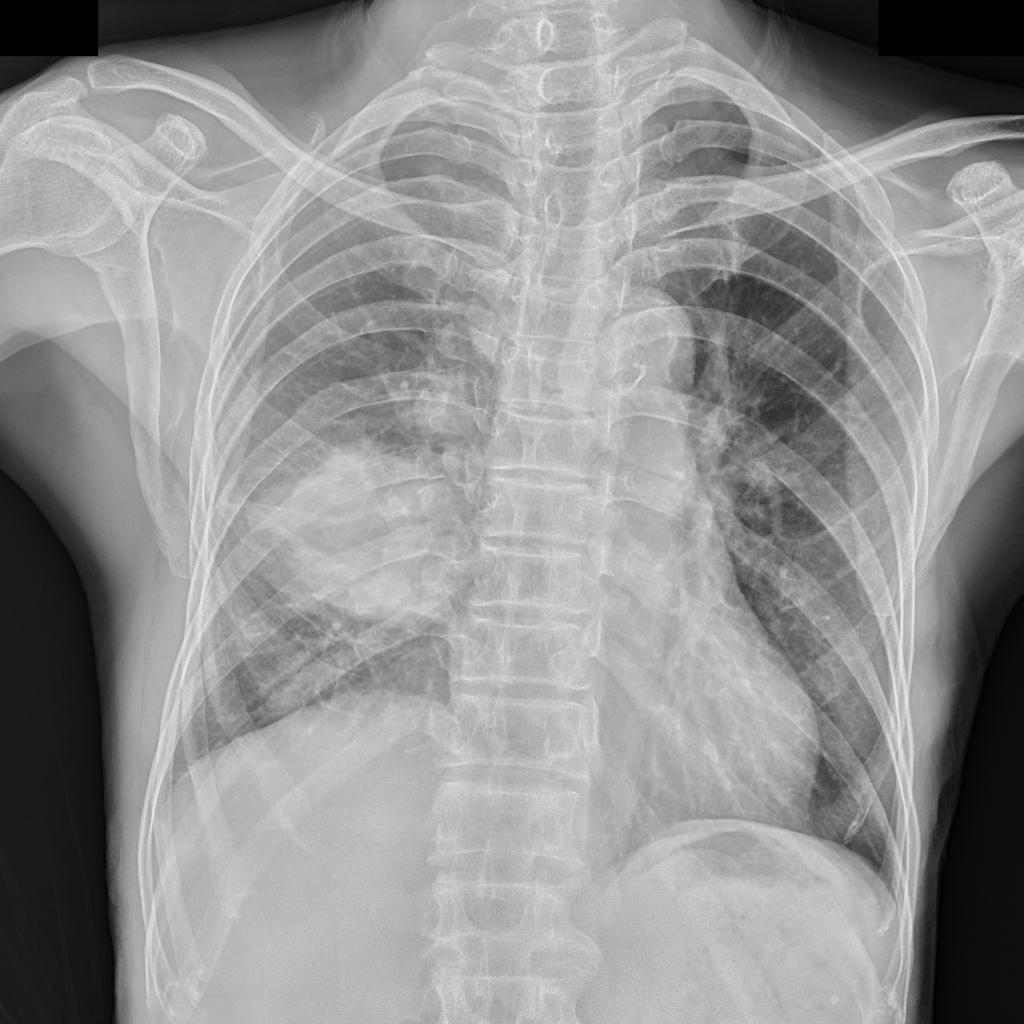Nodule: (249, 440, 467, 614)
